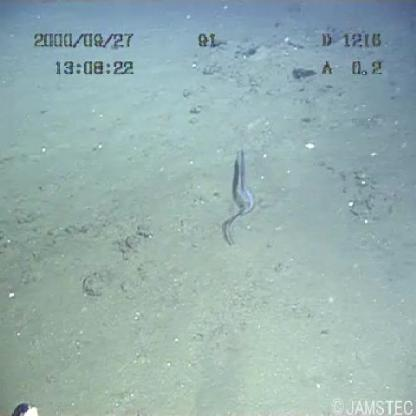Bio: (210, 140, 256, 253)
